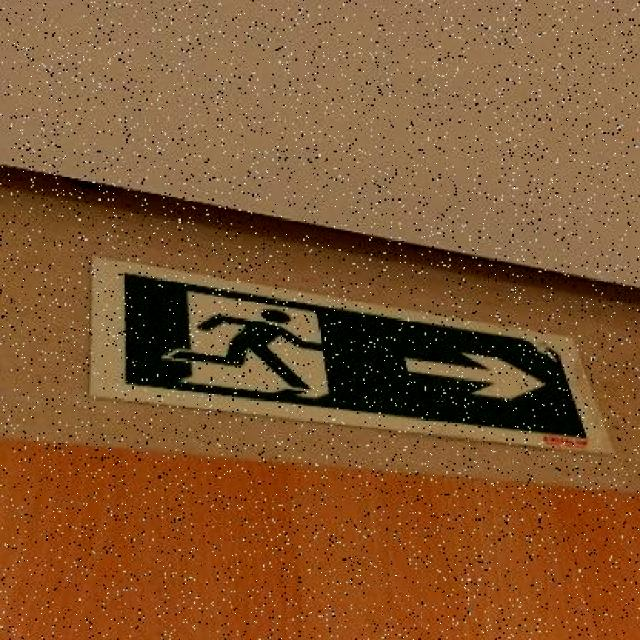emergency_exit: (87, 254, 614, 456)
